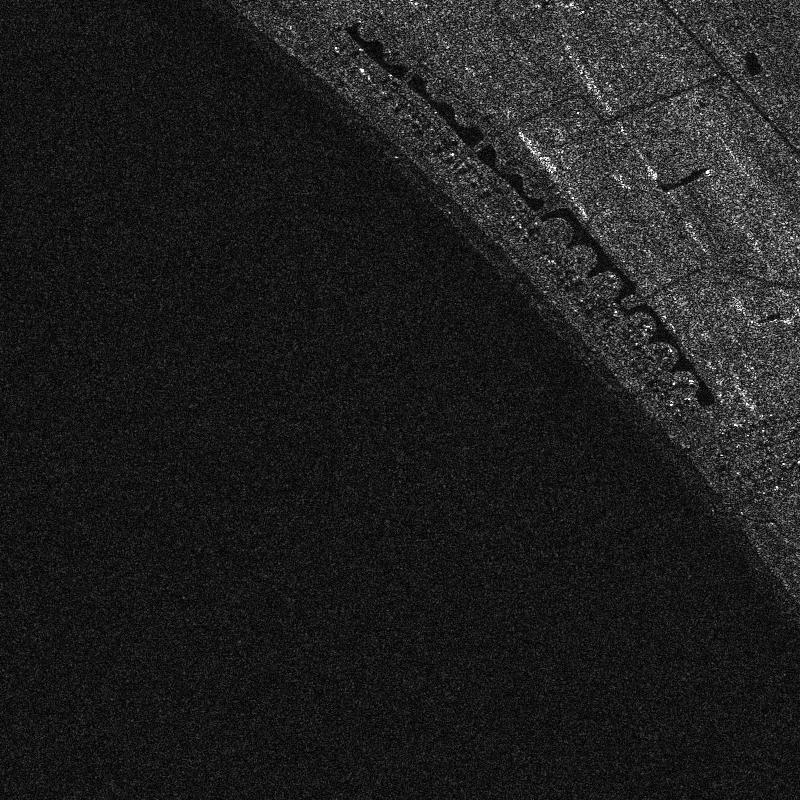land: (346, 18, 789, 132), (507, 170, 789, 253), (587, 290, 796, 386), (710, 407, 786, 520)
sea: (15, 24, 242, 769), (273, 170, 422, 777), (462, 318, 567, 782), (591, 555, 760, 779), (591, 435, 672, 524)
